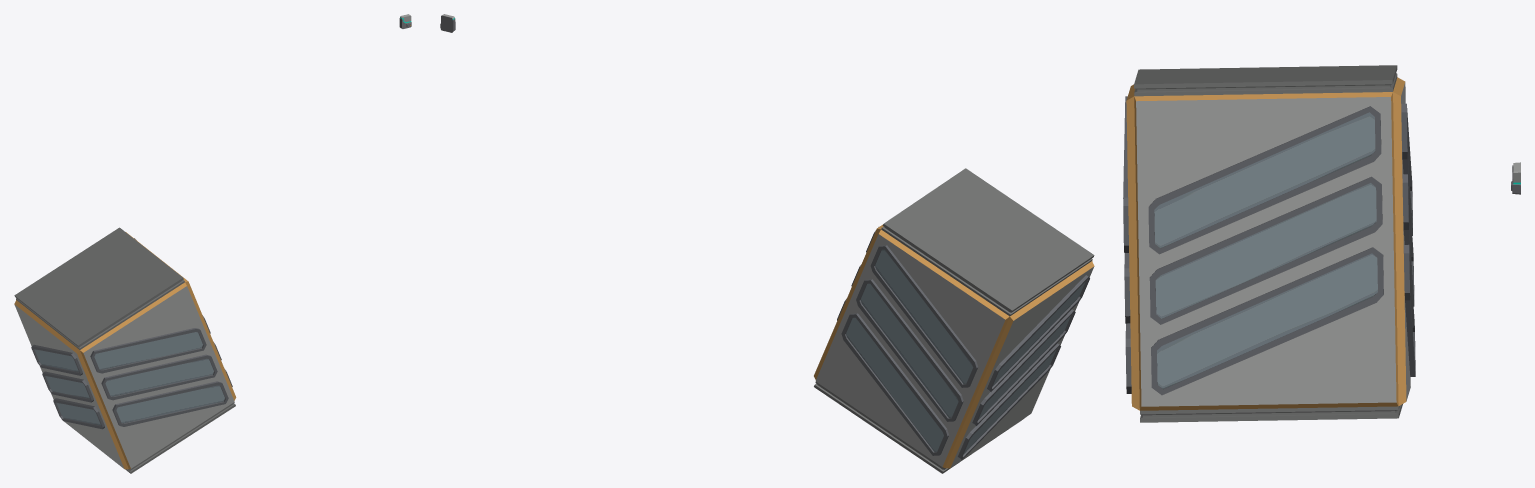
File: SM_Bld_Section_Window_04.fbx
3 views of the same model, side by side, from view 1: azimuth 30°, elevation 25°; view 2: azimuth 150°, elevation 25°; view 3: azimuth 270°, elevation 25° (orthographic). The views are drawn at different scales.
Visible parts, largest first — view 1: SM_Bld_Section_Window_04; view 2: SM_Bld_Section_Window_04; view 3: SM_Bld_Section_Window_04.
Part boxes in pixels (bbox=[...]): SM_Bld_Section_Window_04: bbox=[14, 227, 236, 473]; SM_Bld_Section_Window_04: bbox=[814, 168, 1094, 473]; SM_Bld_Section_Window_04: bbox=[1123, 65, 1415, 422].
Size of the model in its own units: 34.33 by 22.99 by 13.79.
